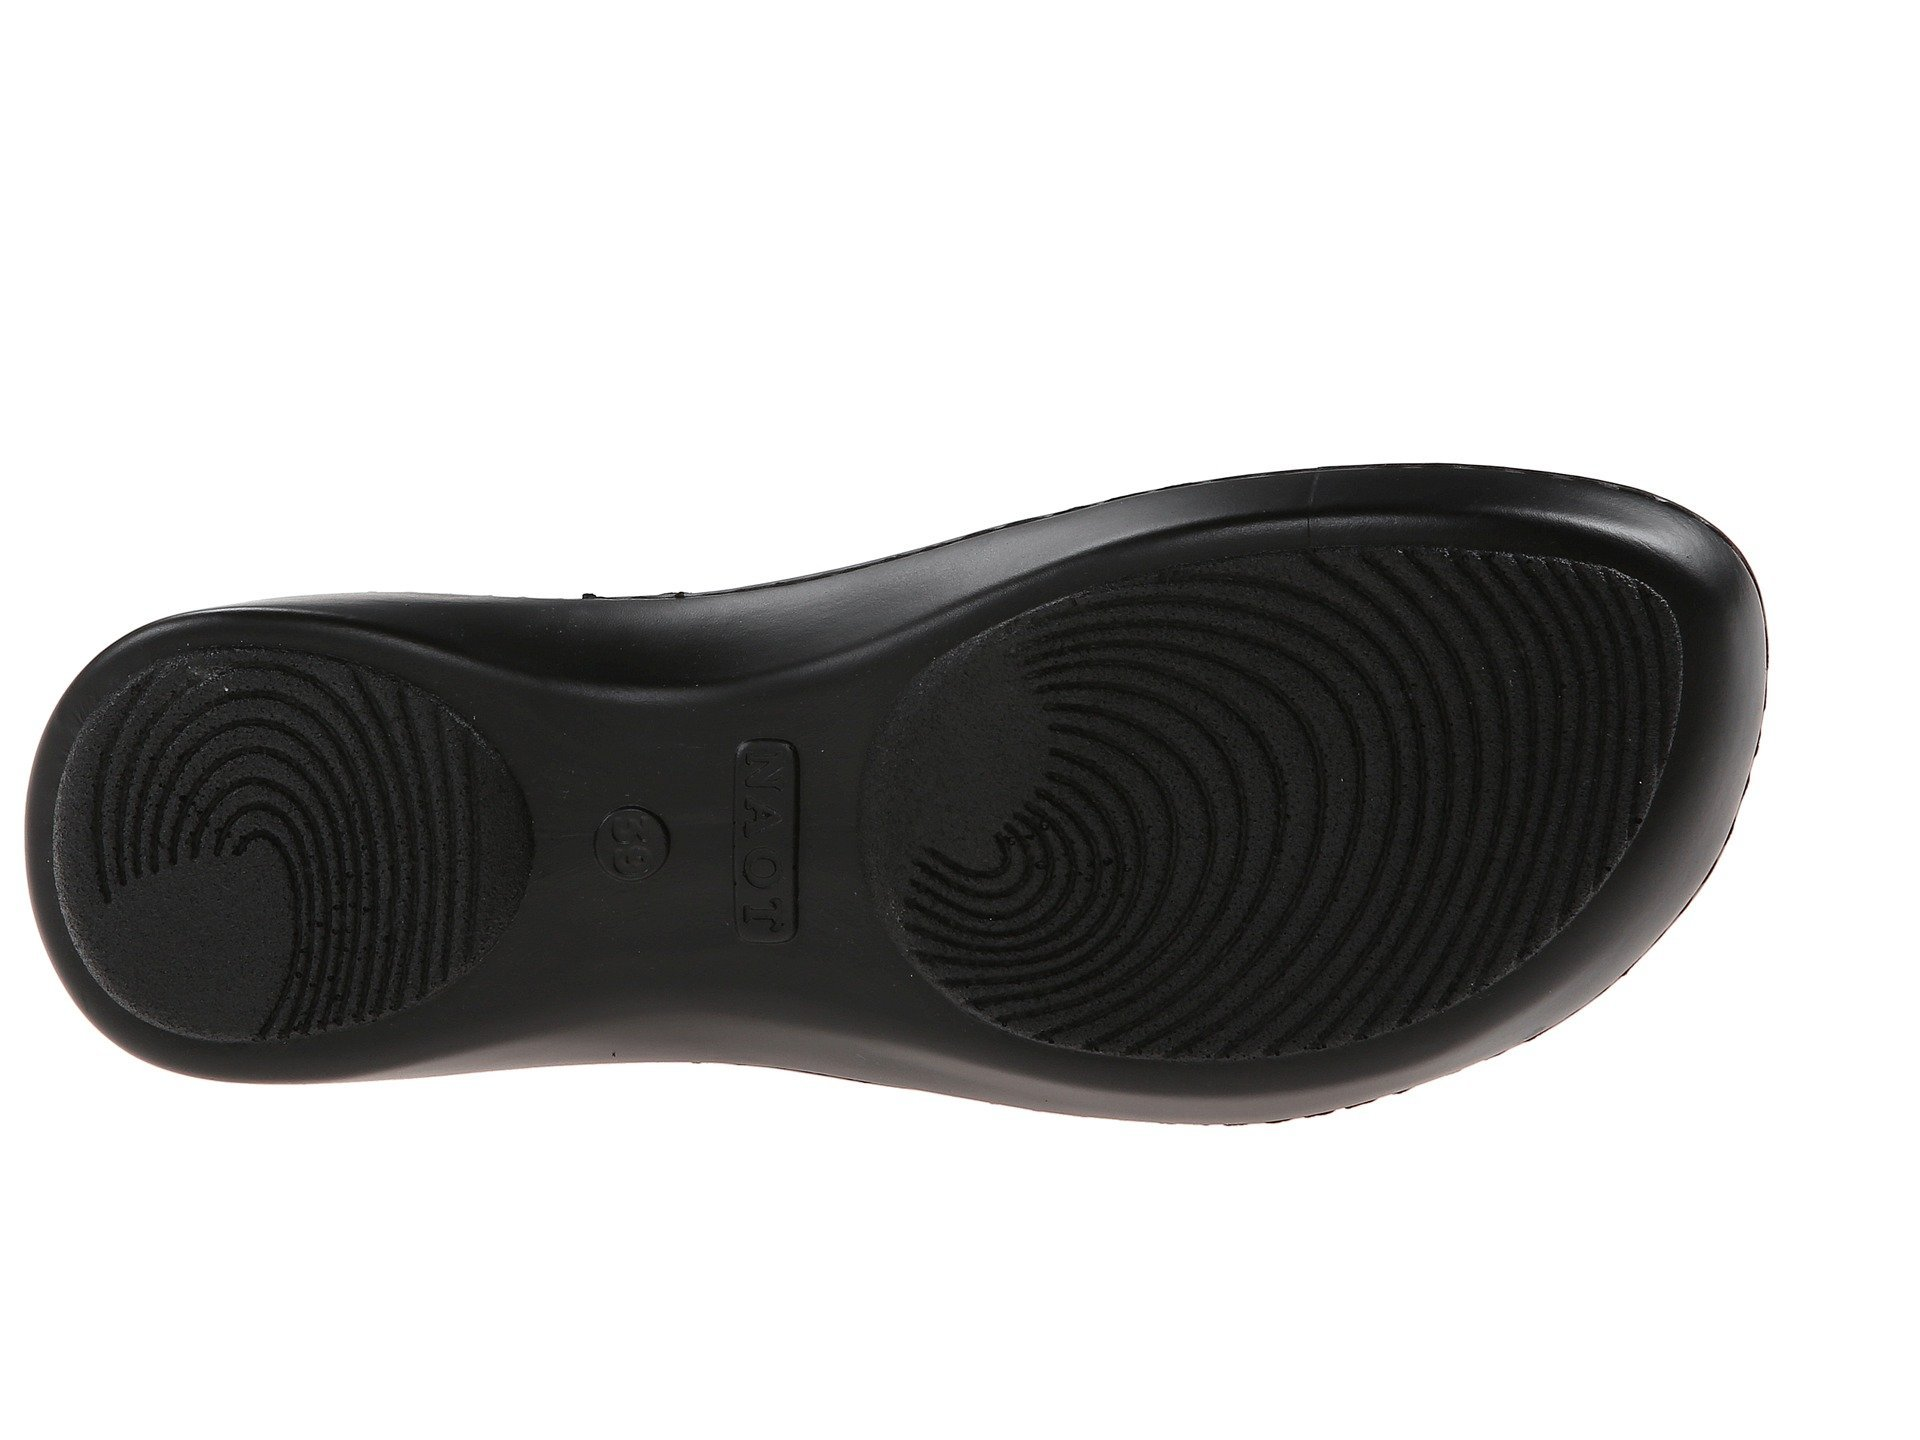chevron: (892, 635, 1270, 1001), (106, 726, 417, 1013)
circle: (531, 718, 844, 995)
line: (892, 635, 1270, 1001), (106, 726, 417, 1013)
quad: (531, 718, 844, 995)
text: (531, 718, 844, 995)
